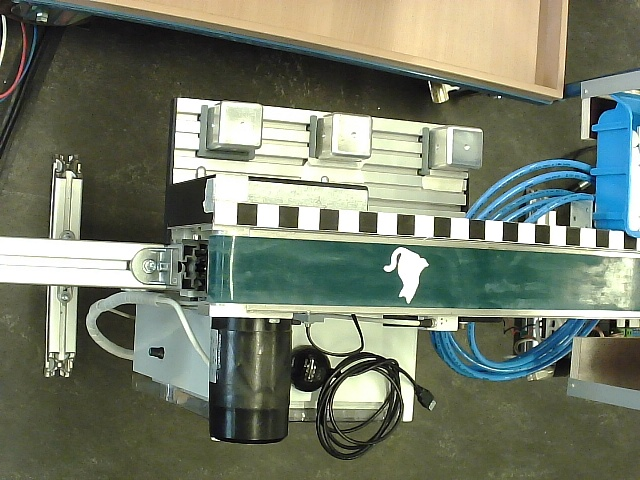cat: (383, 247, 430, 305)
